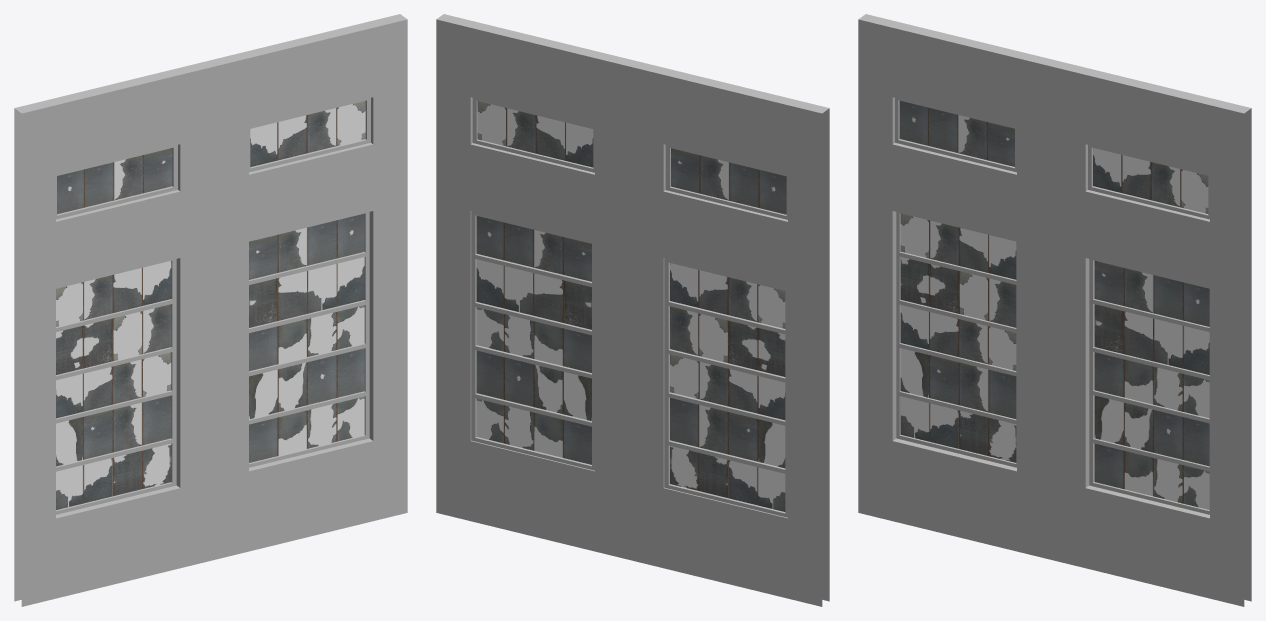
File: Factory3Wall02.FBX
The picture shows the model from 3 angles, left to right: view 1: azimuth 30°, elevation 25°; view 2: azimuth 150°, elevation 25°; view 3: azimuth 330°, elevation 25°; orthographic projection.
Visible parts, largest first — view 1: Factory3Wall02, Factory3Wall02Glass; view 2: Factory3Wall02, Factory3Wall02Glass; view 3: Factory3Wall02, Factory3Wall02Glass.
Boxes of the visible parts, left/top/right/bottom form: Factory3Wall02: left=14, top=14, right=407, bottom=606; Factory3Wall02Glass: left=56, top=101, right=365, bottom=509; Factory3Wall02: left=436, top=14, right=829, bottom=606; Factory3Wall02Glass: left=476, top=101, right=786, bottom=511; Factory3Wall02: left=858, top=14, right=1251, bottom=606; Factory3Wall02Glass: left=899, top=100, right=1209, bottom=509.
Bounding box in the file's own units: 900 × 1100 × 30.
